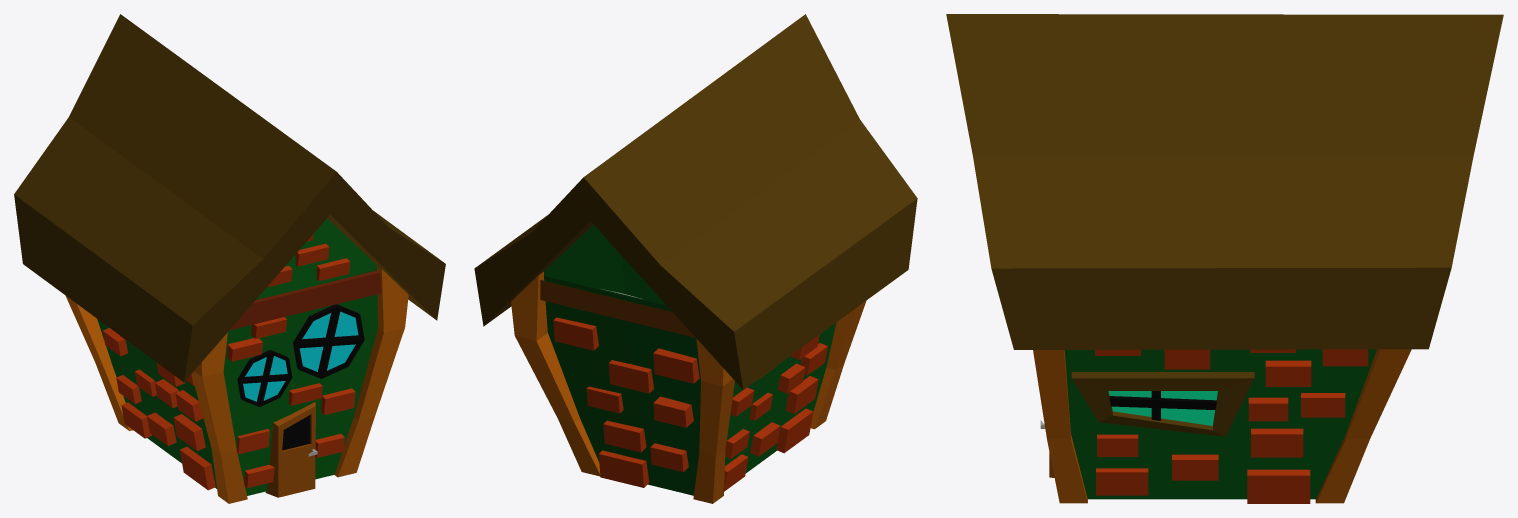
Rendered from SaleVerde.fbx.
3 views of the same model, side by side, from view 1: azimuth 30°, elevation 25°; view 2: azimuth 150°, elevation 25°; view 3: azimuth 270°, elevation 25° (orthographic). The views are drawn at different scales.
Parts seen in each view (by area): view 1: SaleVerde; view 2: SaleVerde; view 3: SaleVerde.
Part boxes in pixels (box(x1,y1,x2,y2)): SaleVerde: box(14, 14, 445, 503); SaleVerde: box(474, 14, 917, 503); SaleVerde: box(946, 14, 1503, 503).
Size of the model in its own units: 687 by 909 by 1017.
